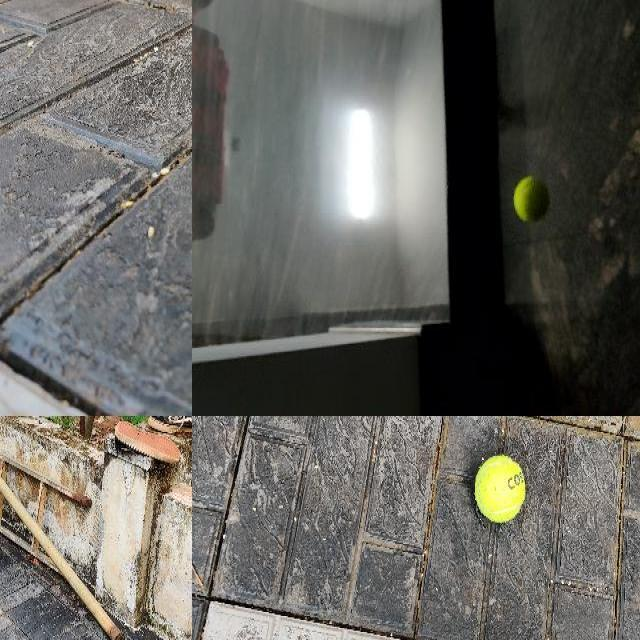tennis-ball: (474, 453, 526, 523), (512, 176, 550, 222)
